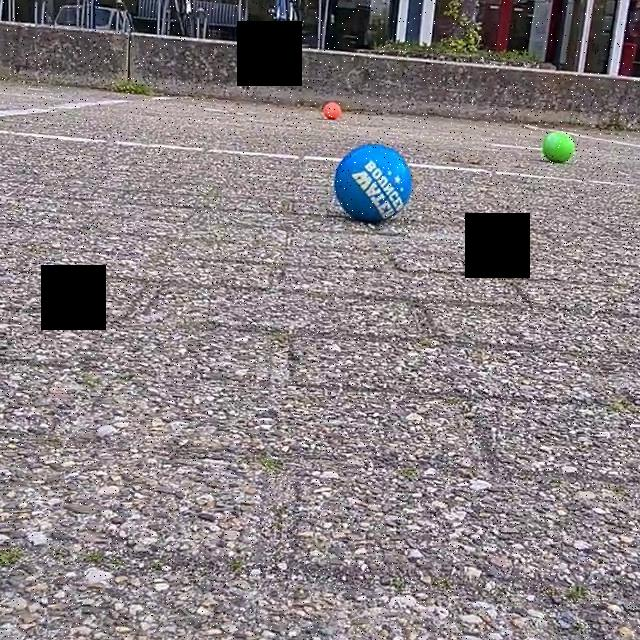ball: (538, 127, 578, 167), (318, 97, 347, 124)
